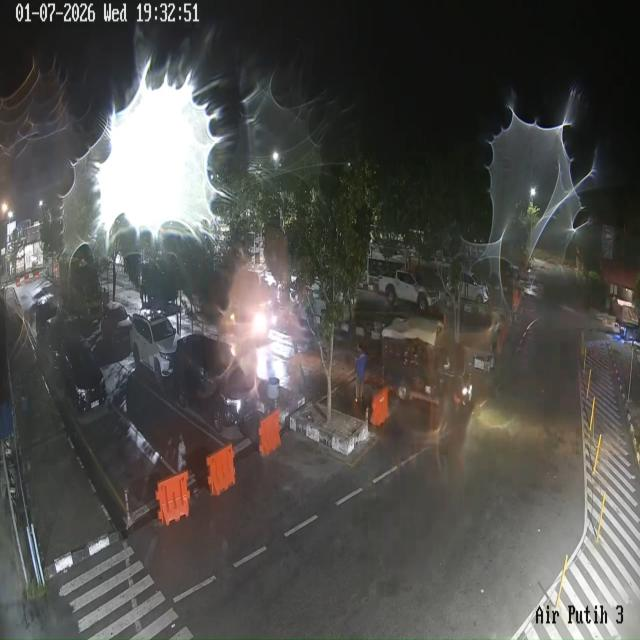Golongan IVA: (173, 334, 256, 433), (60, 336, 106, 414), (130, 310, 178, 384), (40, 313, 69, 371), (101, 302, 131, 344), (35, 295, 58, 337)
Golongan IVB: (378, 270, 439, 313)
Golongan VB: (58, 243, 103, 319)
